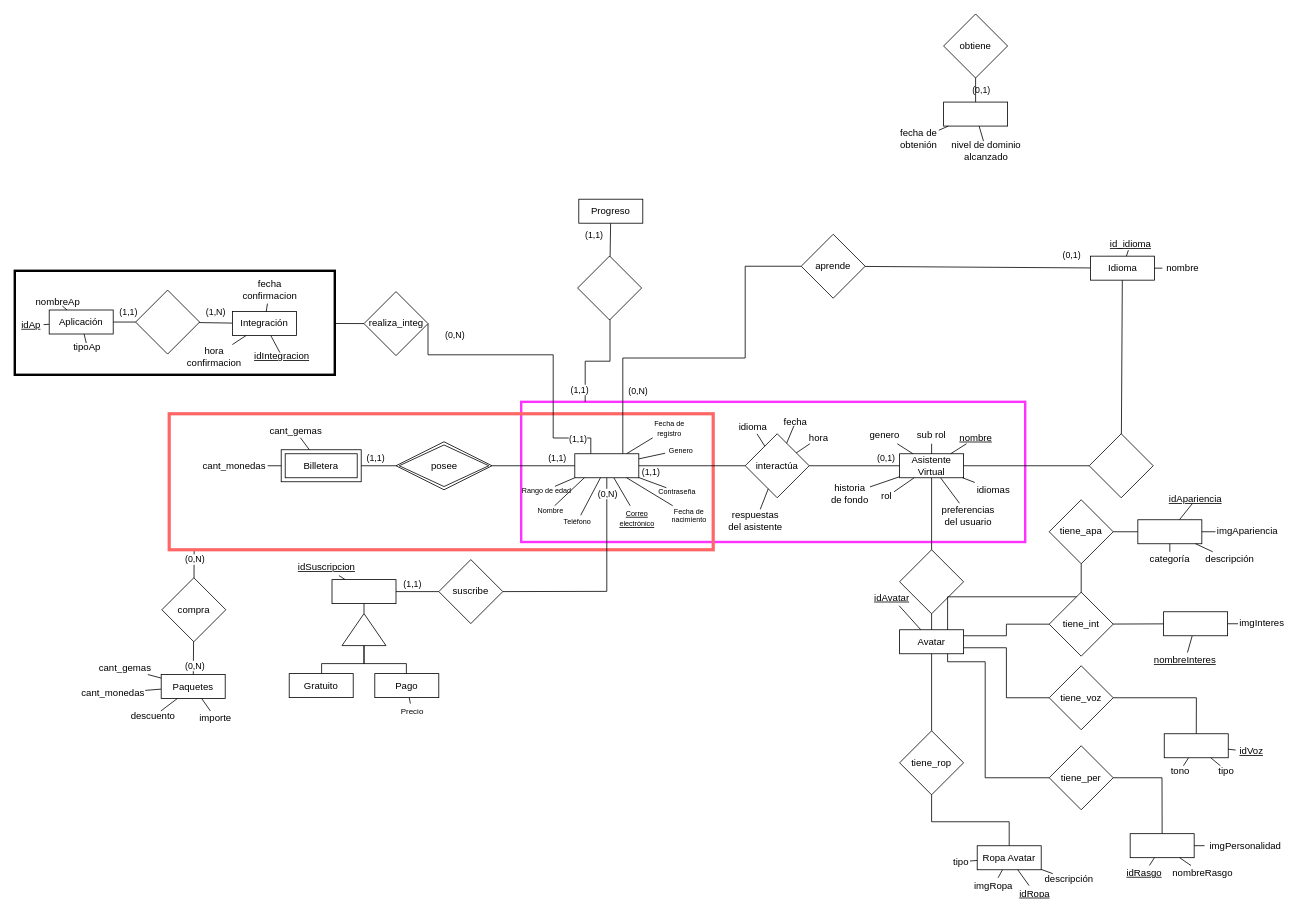
Image size: 1301x915. Some labels were removed from this diagram. The centre of each missing label's shape, as x and y in pixels:
Apariencia: (1169,531)
Certificado de Logro: (975,113)
genera_progreso: (609,287)
Interes: (1195,623)
maneja: (1120,465)
personifica: (931,581)
Rasgos Personalidad: (1161,845)
Suscripción: (363,591)
Usuario: (606,465)
vincula: (167,321)
Voz Avatar: (1195,745)
